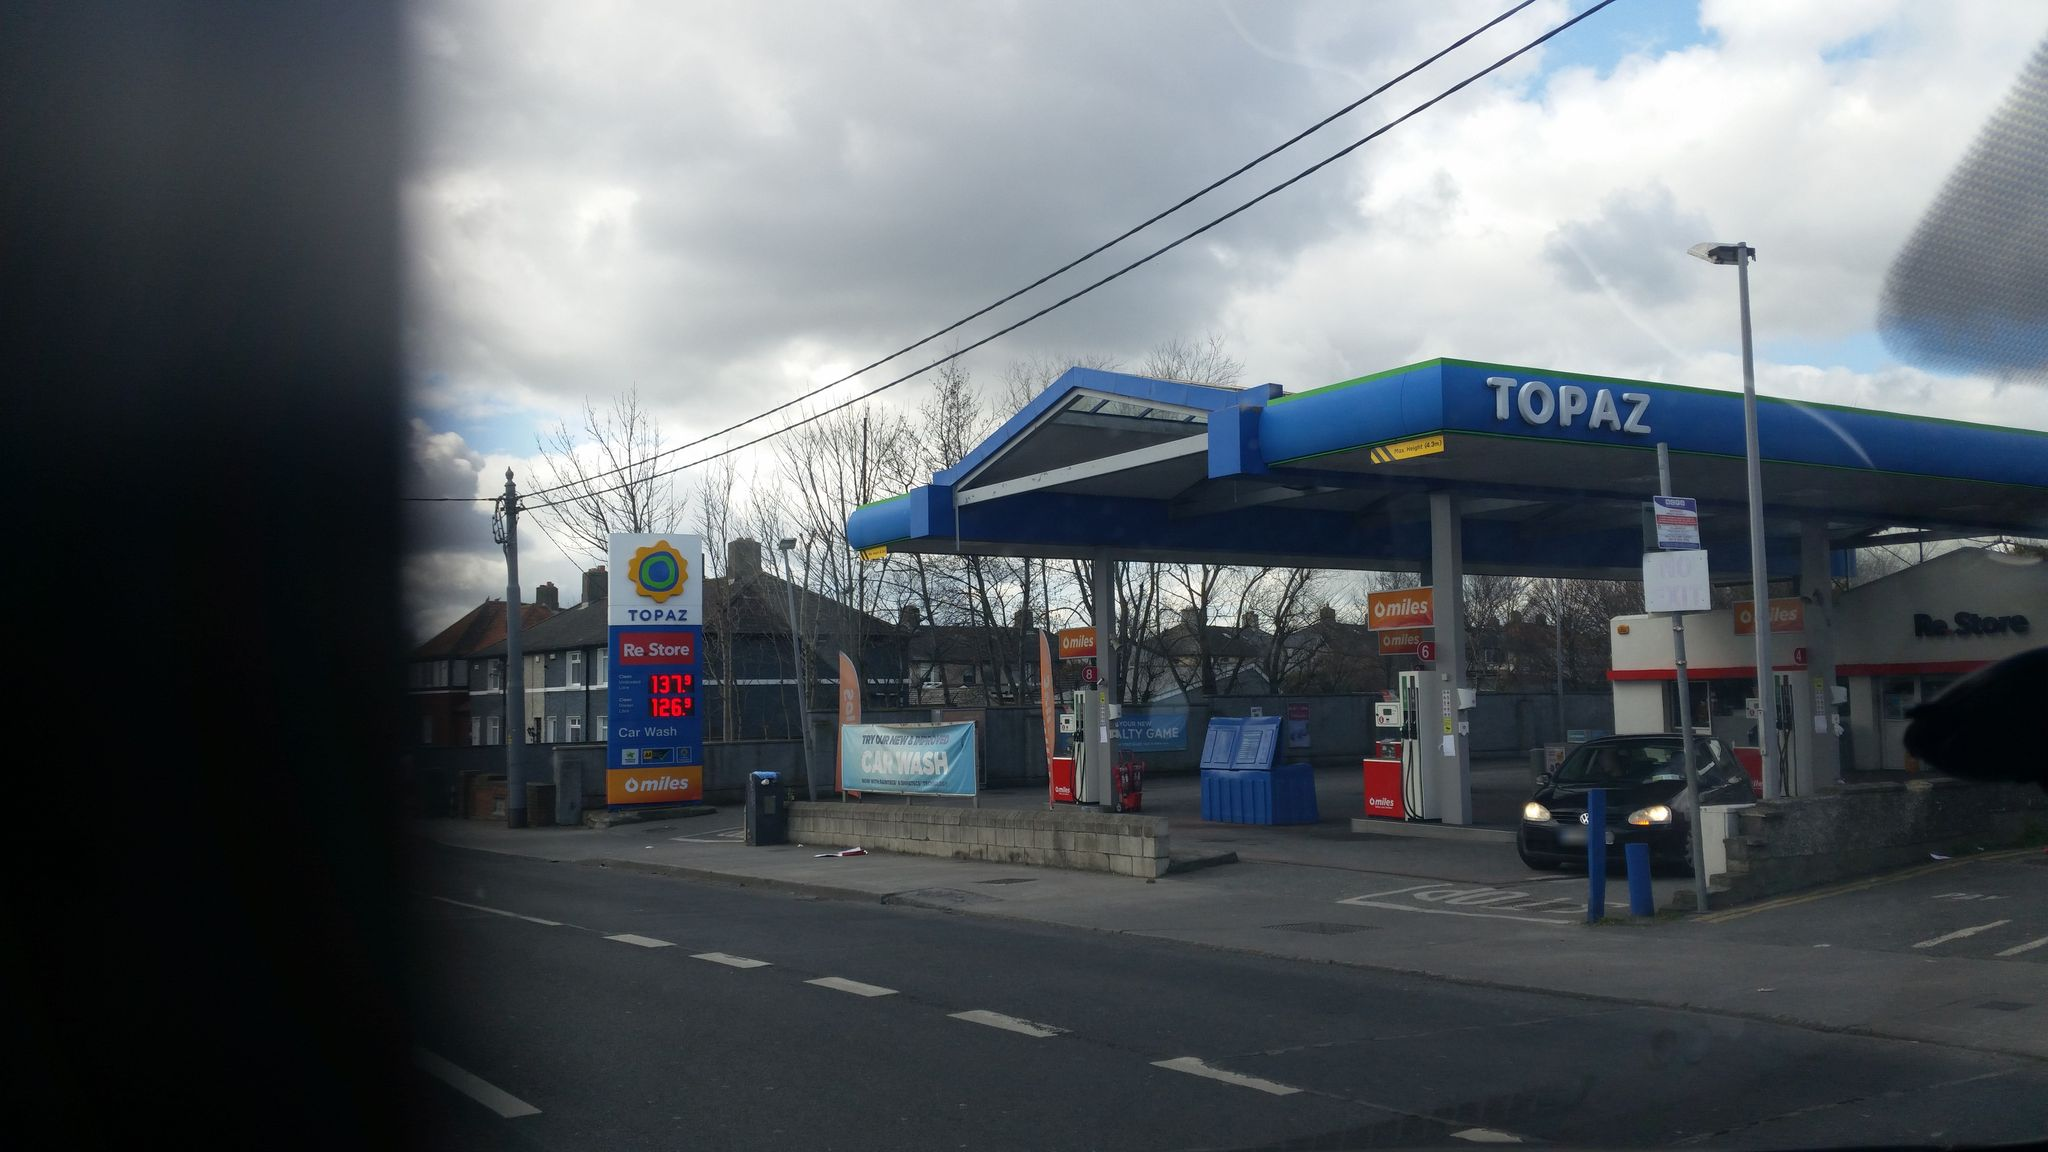vinyl banner: (838, 705, 987, 812)
